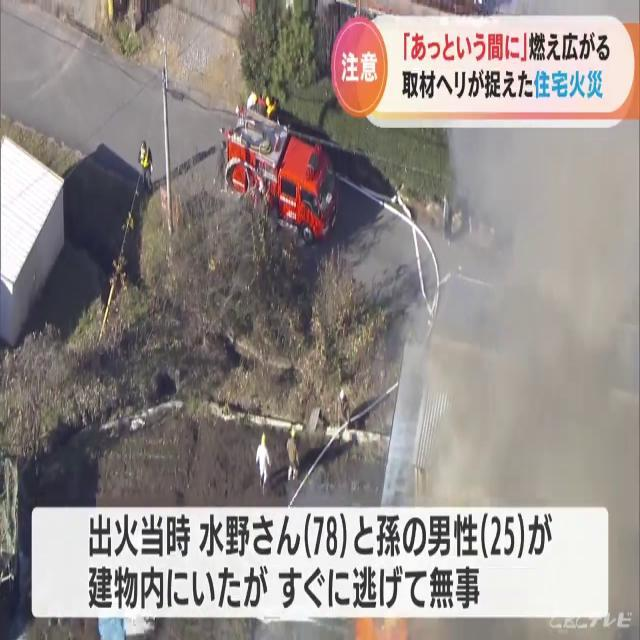Smoke: (389, 118, 639, 513)
